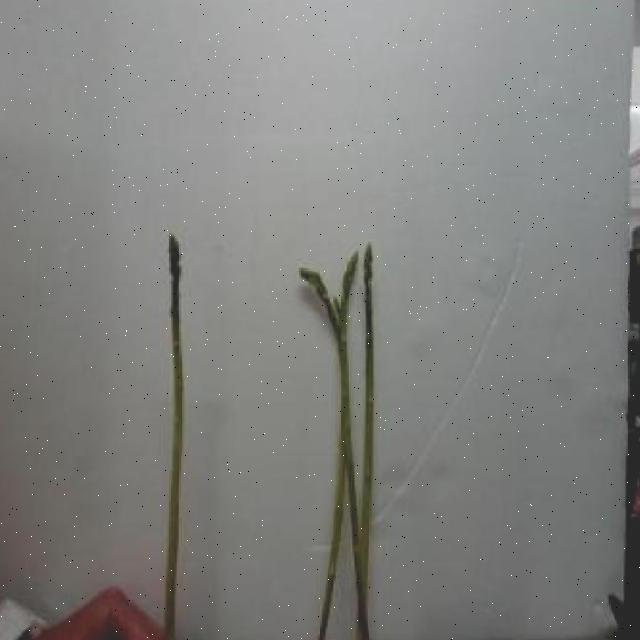aspargus: (164, 233, 188, 640)
